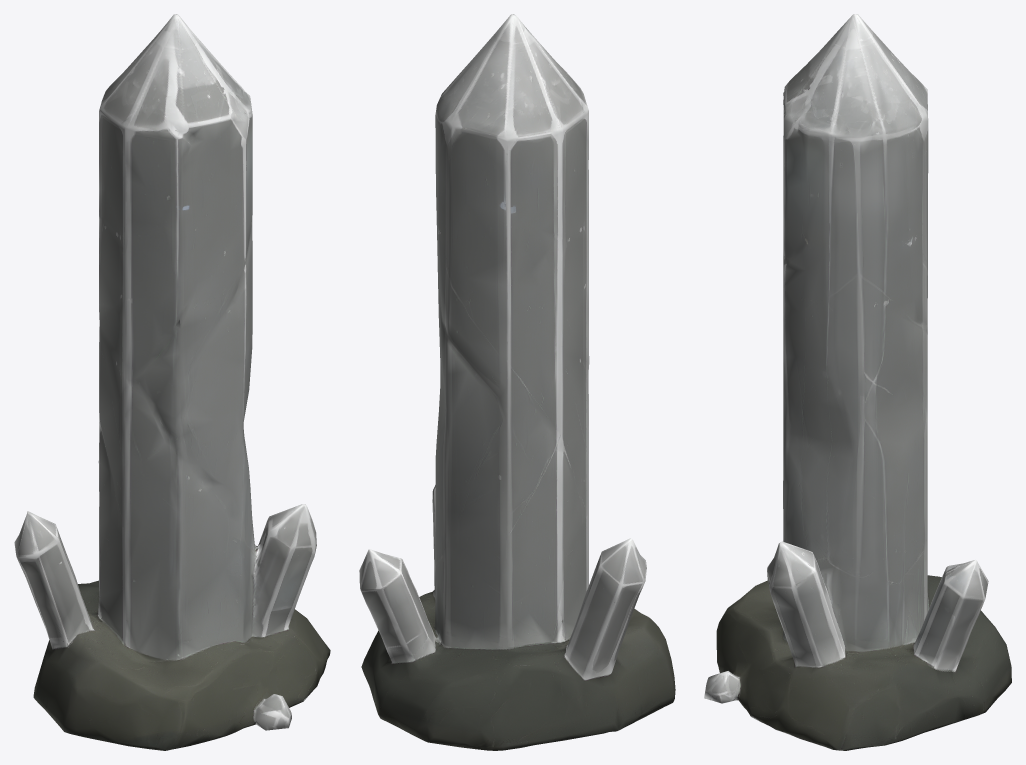
3 renders of one model, left to right at view 1: azimuth 30°, elevation 25°; view 2: azimuth 150°, elevation 25°; view 3: azimuth 270°, elevation 25°, orthographic.
Visible parts, largest first — view 1: Mesh_0; view 2: Mesh_0; view 3: Mesh_0.
Boxes of the visible parts, bbox=[...] form: Mesh_0: bbox=[14, 14, 330, 750]; Mesh_0: bbox=[359, 14, 675, 750]; Mesh_0: bbox=[704, 14, 1011, 750].
Size of the model in its own units: 0.8746 by 1.91 by 0.8001.
Materials: 1 (1 with a texture image).
